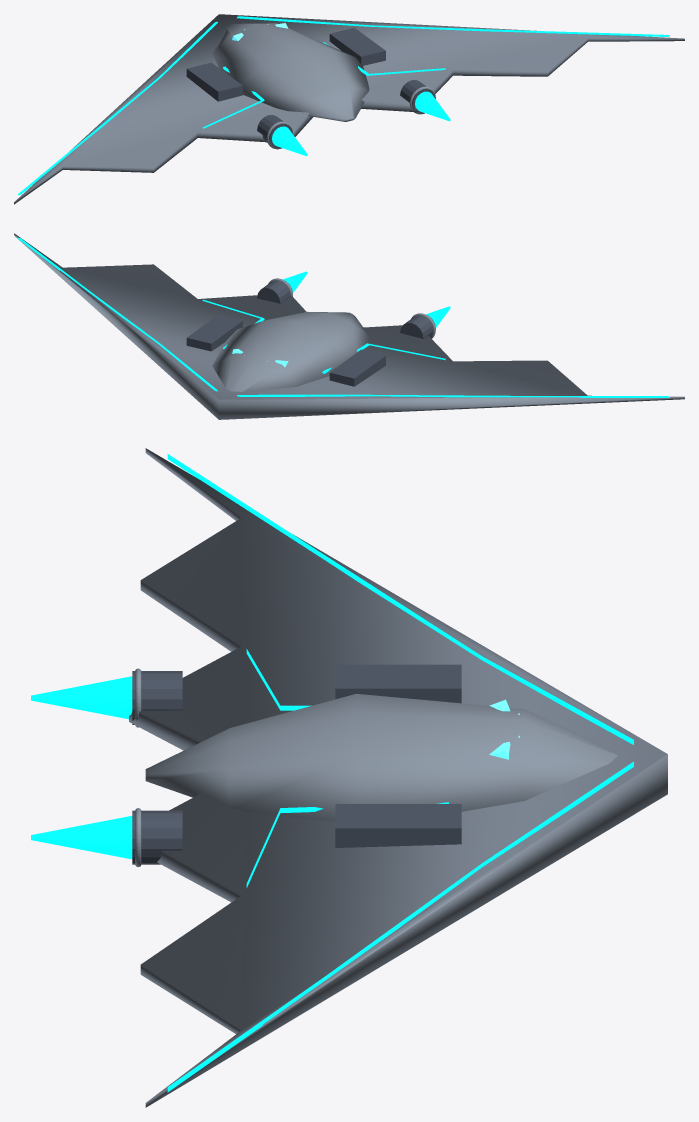
File: B2_Spirit.glb
The picture shows the model from 3 angles, top to bottom: view 1: azimuth 30°, elevation 25°; view 2: azimuth 150°, elevation 25°; view 3: azimuth 270°, elevation 25°; orthographic projection. The views are drawn at different scales.
Visible parts, largest first — view 1: B2_Spirit, Domo_Cabina_B2, Cube.004, Cube.005, Tira_Borde_B2_1.0, Tira_Borde_B2_-1.0, propulsor, propulsor.001, Tobera_B2_-0.98_Shroud, Tobera_B2_0.98_Shroud; view 2: B2_Spirit, Domo_Cabina_B2, Cube.004, Cube.005, Tira_Borde_B2_-1.0, Tira_Borde_B2_1.0, Tobera_B2_-0.98_Shroud, Tobera_B2_0.98_Shroud; view 3: B2_Spirit, Domo_Cabina_B2, Cube.005, Cube.004, Tira_Borde_B2_-1.0, Tira_Borde_B2_1.0, propulsor.001, propulsor, Tobera_B2_0.98_Shroud, Tobera_B2_-0.98_Shroud.
Boxes of the visible parts, x1,y1,x2,y2 form: B2_Spirit: (14,14,684,204); Domo_Cabina_B2: (212,23,369,121); Cube.004: (186,62,242,101); Cube.005: (329,27,385,65); Tira_Borde_B2_1.0: (237,16,669,36); Tira_Borde_B2_-1.0: (18,21,217,195); propulsor: (272,126,307,155); propulsor.001: (415,91,450,121); Tobera_B2_-0.98_Shroud: (257,115,292,148); Tobera_B2_0.98_Shroud: (400,80,435,113); B2_Spirit: (14,233,684,419); Domo_Cabina_B2: (212,311,369,391); Cube.004: (329,349,385,386); Cube.005: (186,314,242,351); Tira_Borde_B2_-1.0: (237,394,669,397); Tira_Borde_B2_1.0: (18,237,217,391); Tobera_B2_-0.98_Shroud: (400,315,435,338); Tobera_B2_0.98_Shroud: (257,280,292,303); B2_Spirit: (129,448,667,1107); Domo_Cabina_B2: (145,693,617,821); Cube.005: (335,804,461,847); Cube.004: (335,664,461,703); Tira_Borde_B2_-1.0: (167,454,633,744); Tira_Borde_B2_1.0: (167,761,633,1092); propulsor.001: (31,816,132,859); propulsor: (31,676,132,719); Tobera_B2_0.98_Shroud: (132,810,182,864); Tobera_B2_-0.98_Shroud: (132,671,182,724).
Size of the model in its own units: 9.2 by 0.536 by 3.78.
